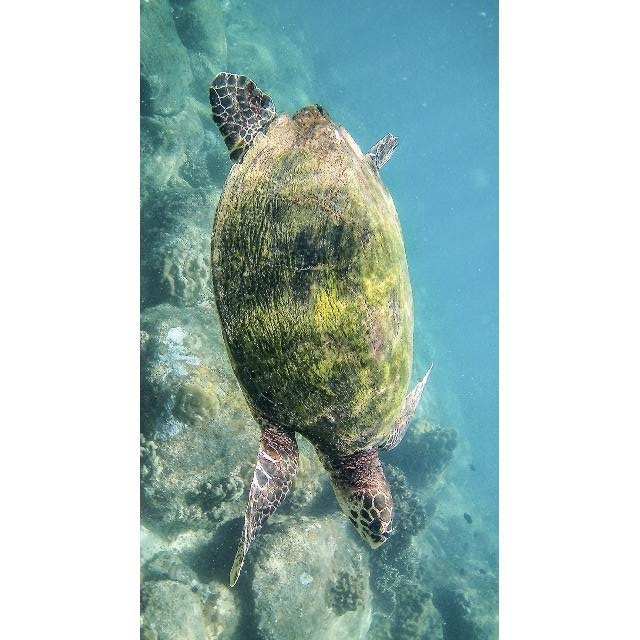turtle: (211, 72, 433, 588)
